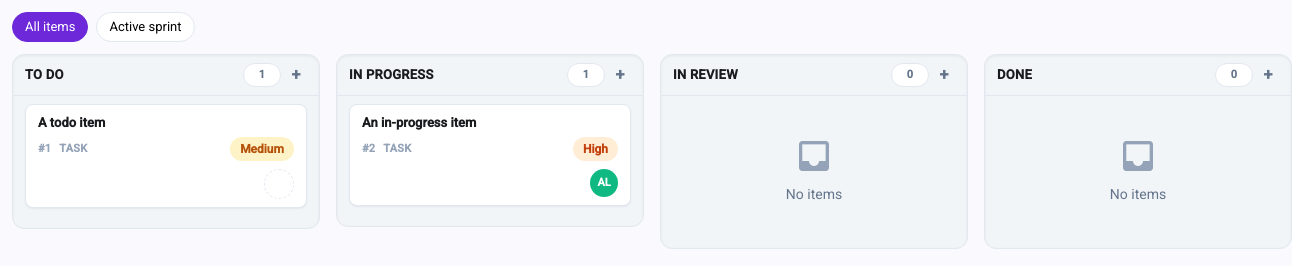
BoardComponent › shows an empty state with a Backlog link when no sprint is Active
Click the button with class "active-sprint-toggle": (146, 27) [96, 12, 194, 42]
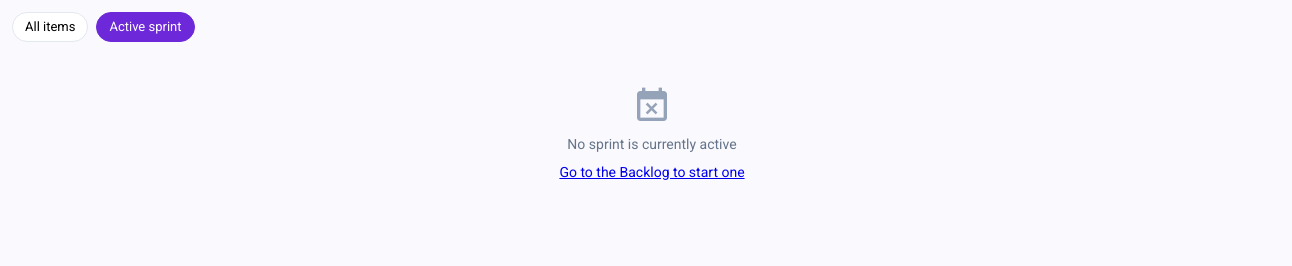
expect the element showing "No sprint is currently active Go to the Backlog to start one" is shown: met, box [559, 86, 745, 180]
expect the link with class "no-active-sprint-backlog-link" is shown: met, box [559, 164, 745, 180]
